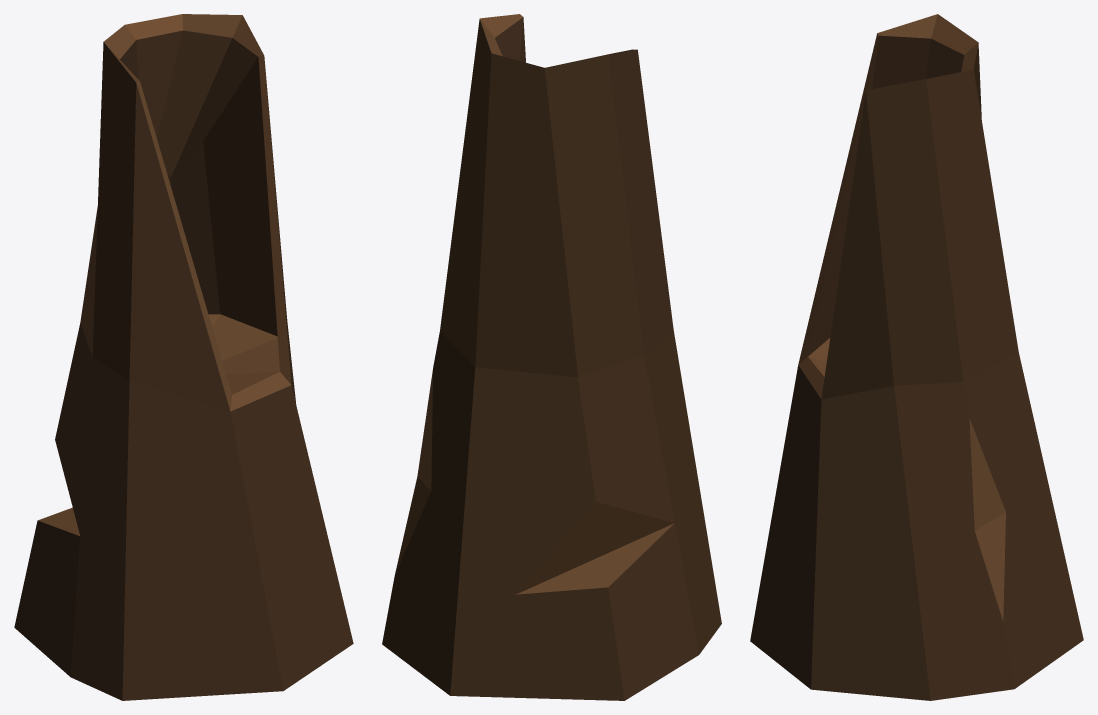
Rendered from Tree_Trunk_1_Dark_Brown.fbx.
3 views of the same model, side by side, from view 1: azimuth 30°, elevation 25°; view 2: azimuth 150°, elevation 25°; view 3: azimuth 270°, elevation 25° (orthographic). The views are drawn at different scales.
Visible parts, largest first — view 1: Tree_Trunk_1_Dark_Brown; view 2: Tree_Trunk_1_Dark_Brown; view 3: Tree_Trunk_1_Dark_Brown.
Boxes of the visible parts, x1,y1,x2,y2 form: Tree_Trunk_1_Dark_Brown: [14, 14, 353, 700]; Tree_Trunk_1_Dark_Brown: [382, 14, 721, 700]; Tree_Trunk_1_Dark_Brown: [750, 14, 1083, 700].
Size of the model in its own units: 94.74 by 201 by 103.
